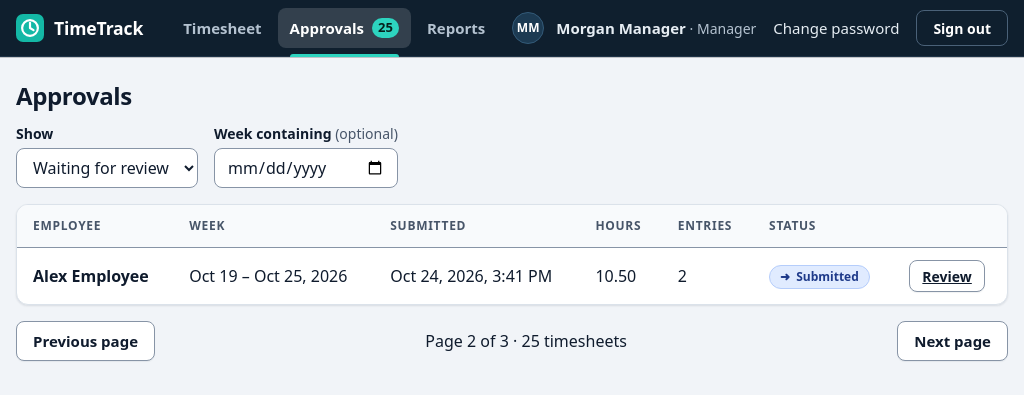
Test: approvals list › switches status, shows who reviewed, and returns to the first page
The width and height of the screenshot is (1024, 395).
Select "Approved" in the dropdown labelled "Show" at (107, 168), box [16,148,198,188]
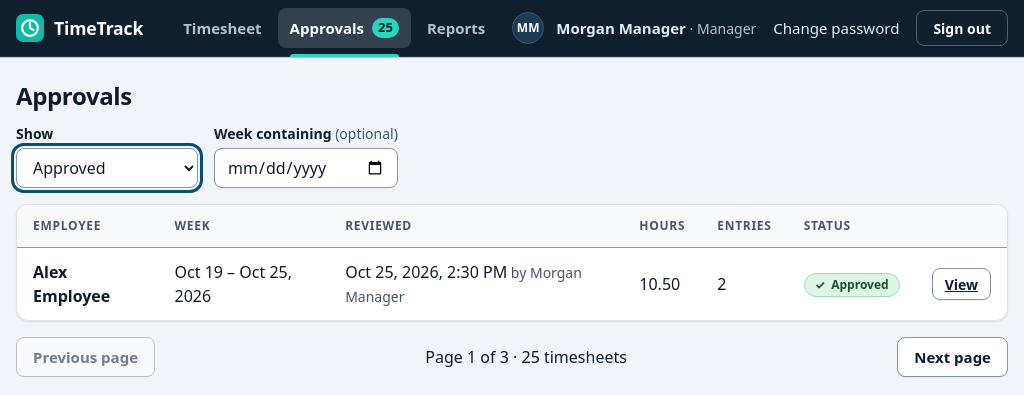
Result: the column heading "Reviewed" is shown at [329,205,623,248]
Result: the row with test id "approval-row" shows "by Morgan Manager" at [17,248,1007,320]
Result: the link "View " is shown at [932,268,991,300]
